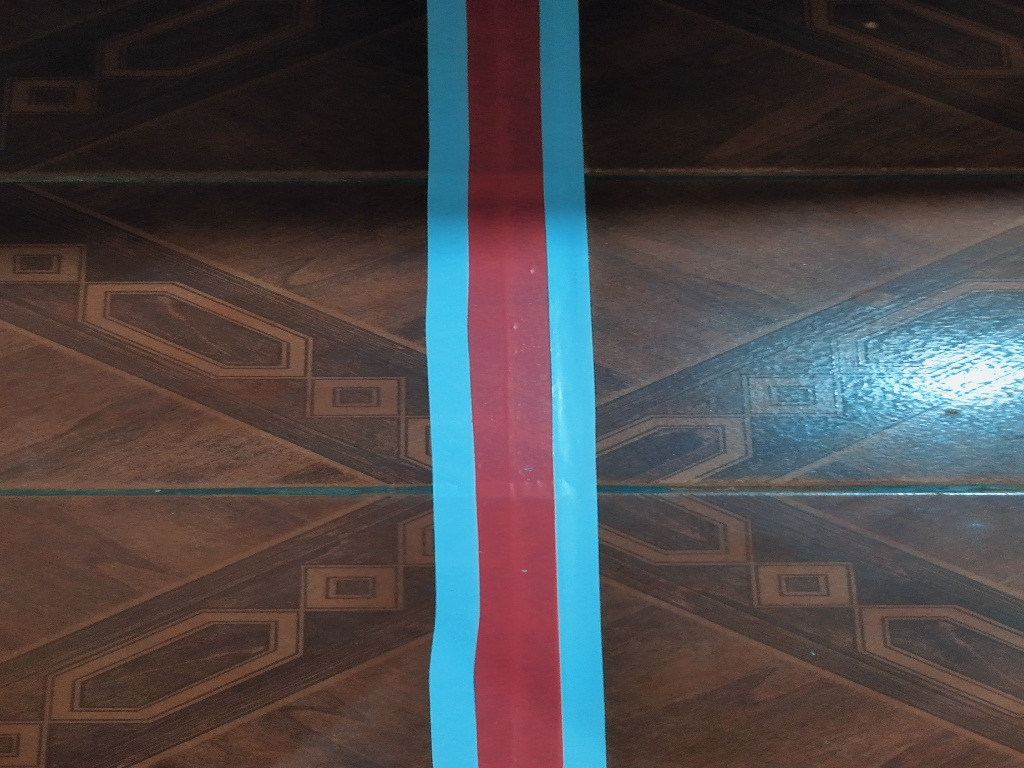reta: (418, 1, 606, 768)
